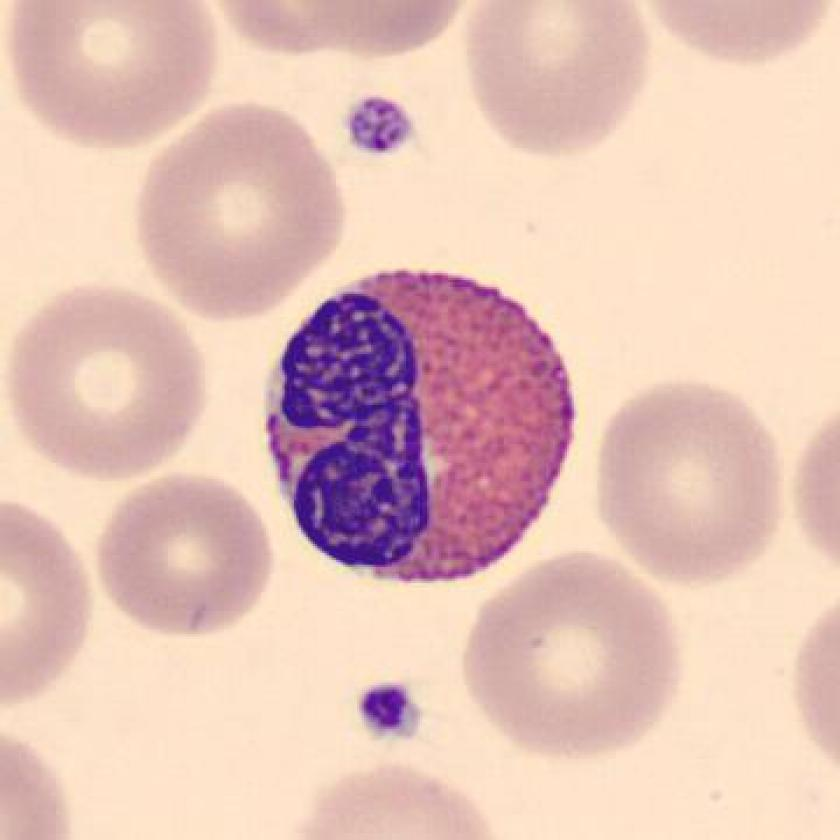eosinophil: (248, 253, 594, 603)
